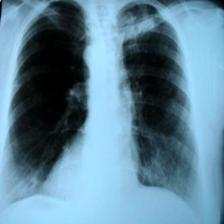tuberculosis: (3, 0, 208, 224)
